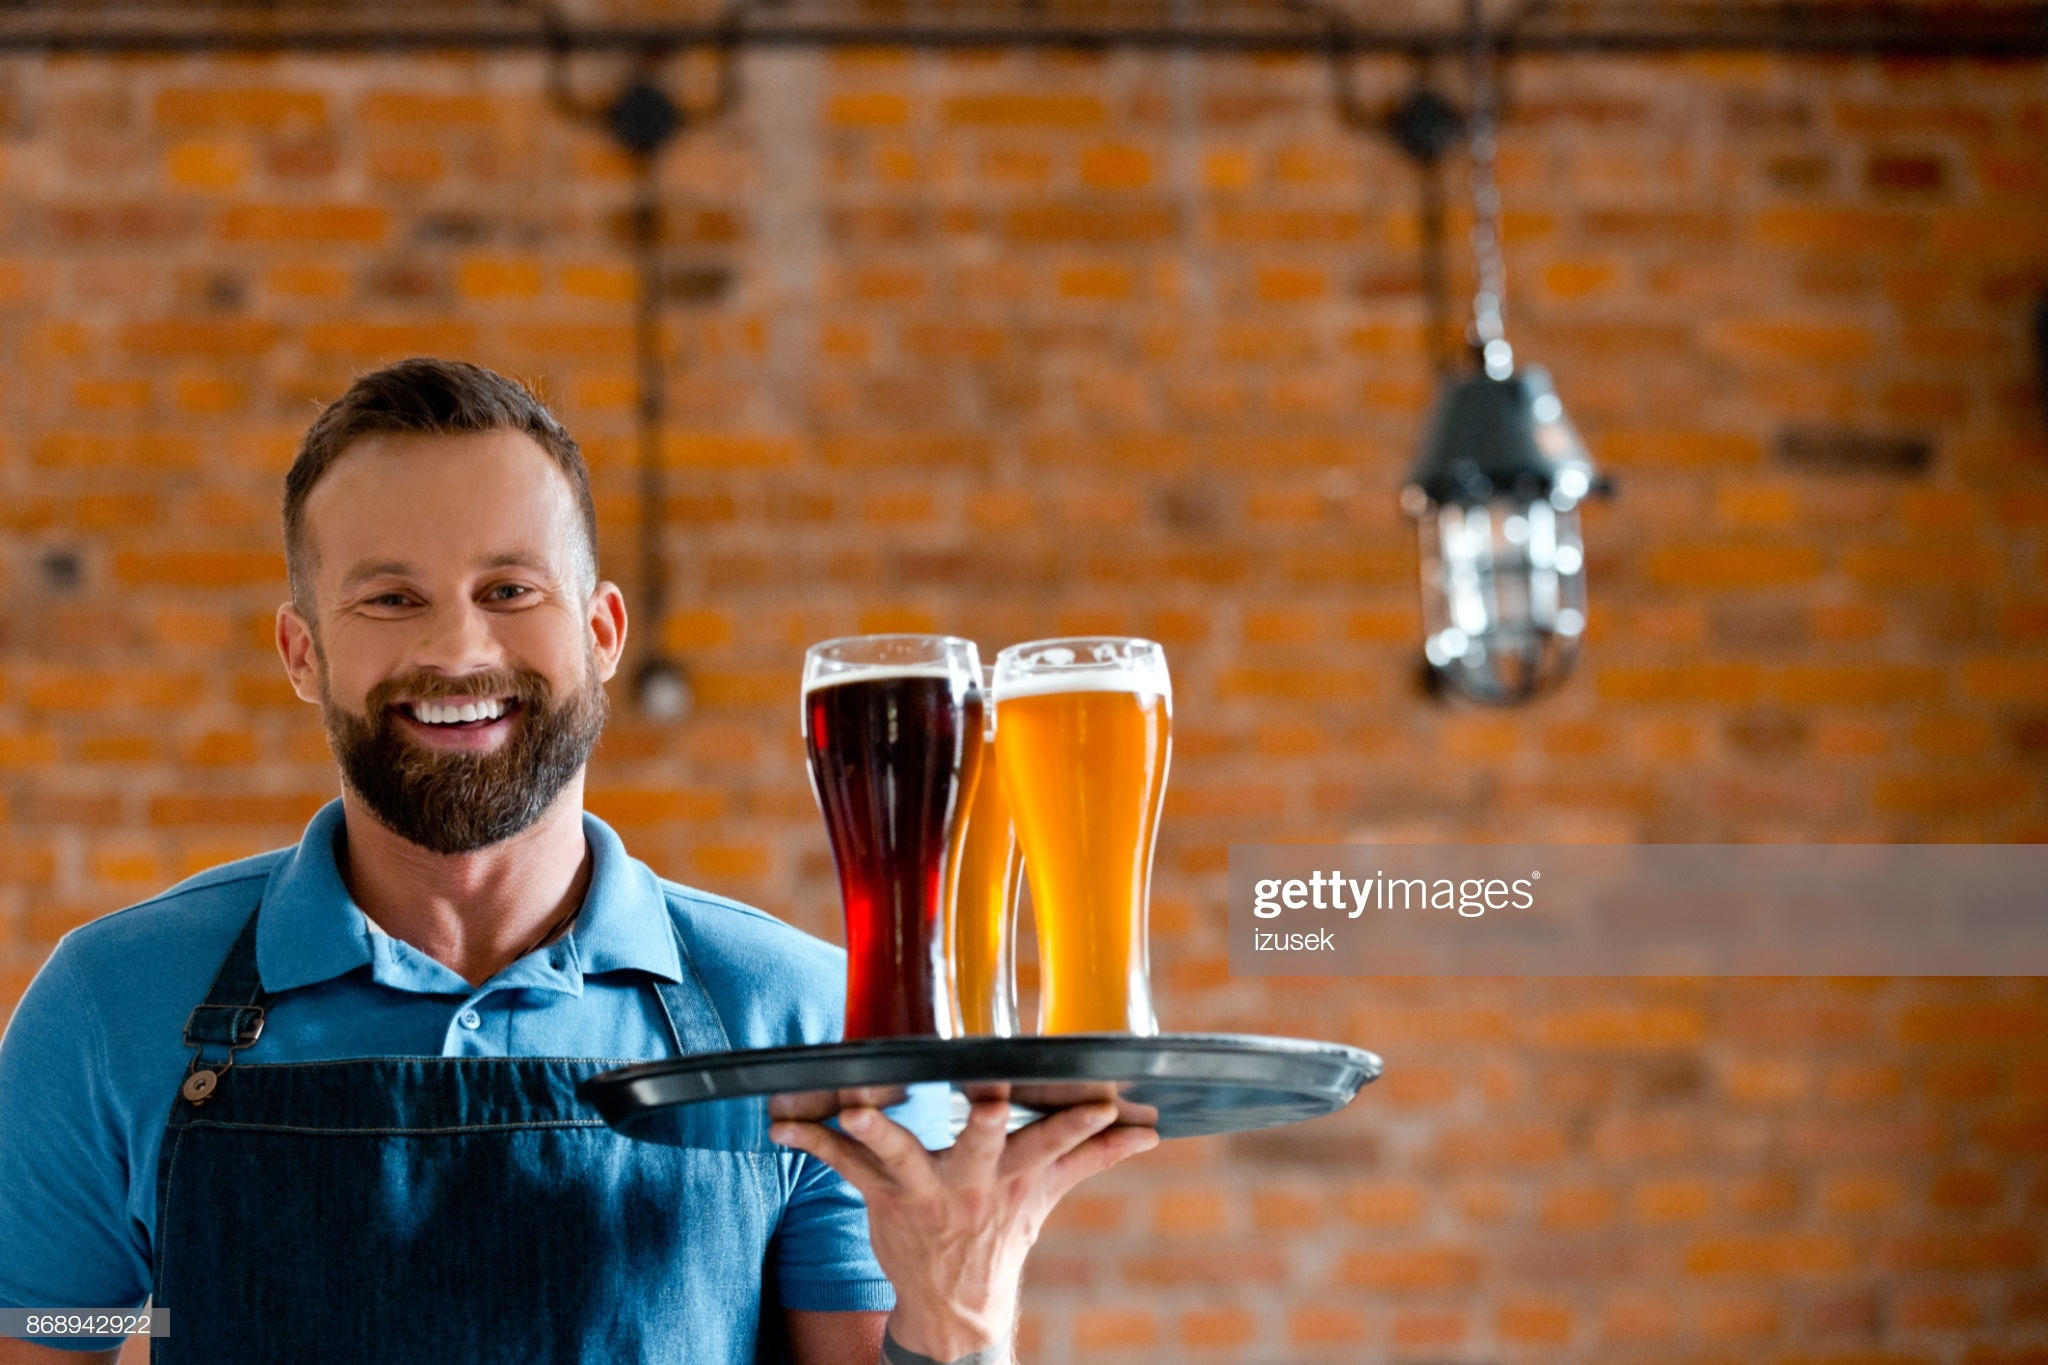glassBeer: (809, 617, 987, 1037), (990, 625, 1166, 1044)
